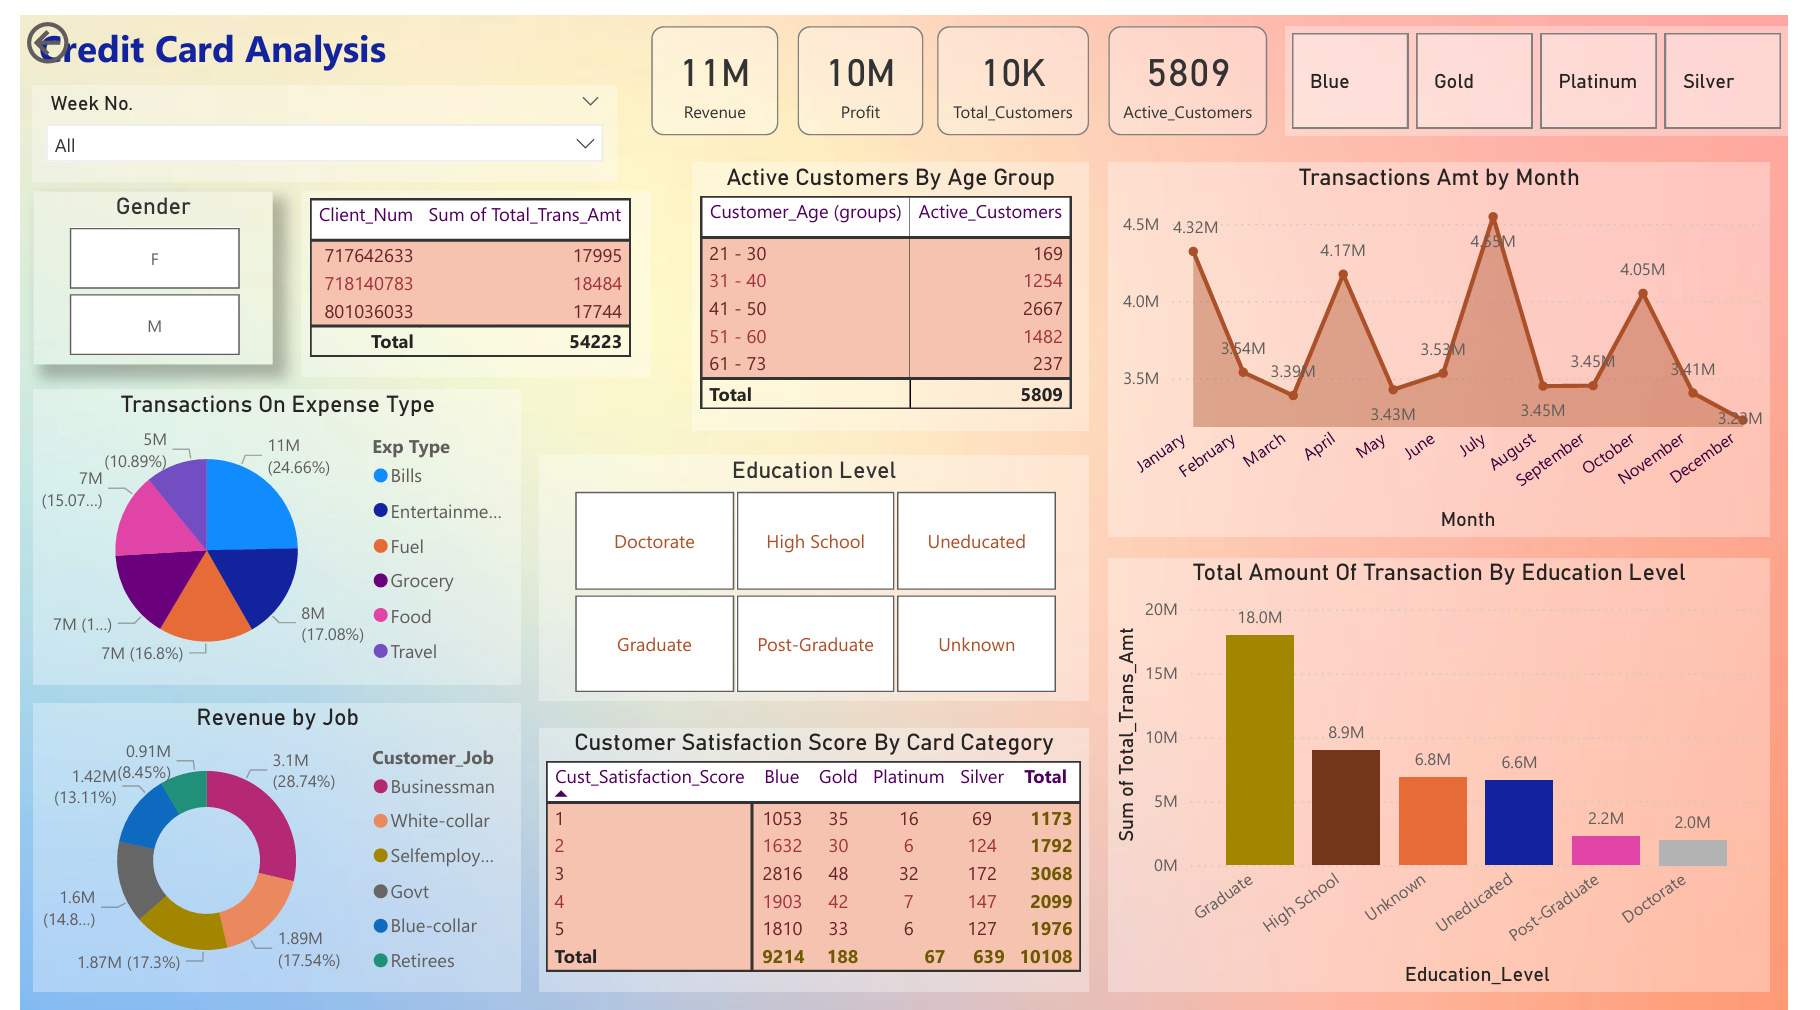

Layout of this report page (visuals, bound fields, positions):
{"tool":"powerbi","page":{"name":" Credit Card Analysis Part 2","canvas":[1280,720],"ordinal":1},"visuals":[{"type":"textbox","box":[9.4,0,366.3,51],"z":0},{"type":"card","fields":{"Values":["credit_card.Revenue"]},"box":[456.7,7.8,92.2,78.9],"z":1000},{"type":"card","fields":{"Values":["credit_card.Profit"]},"box":[563.3,7.8,91.1,78.9],"z":2000},{"type":"card","fields":{"Values":["CountNonNull(credit_card.Client_Num)"]},"box":[664.4,7.8,110,78.9],"z":3000},{"type":"card","fields":{"Values":["credit_card.Active_Customers"]},"box":[787.8,7.8,115.6,78.9],"z":4000},{"type":"slicer","title":"Week No.","fields":{"Values":["credit_card.Week_Num"]},"box":[9.4,51,422.7,69.8],"z":5000},{"type":"donutChart","title":"Revenue by Job","fields":{"Category":["customer.Customer_Job"],"Y":["credit_card.Revenue"]},"box":[10,498,353,209],"z":6000},{"type":"advancedSlicerVisual","fields":{"Values":["credit_card.Card_Category"]},"box":[915.6,7.8,364.4,78.9],"z":7000},{"type":"slicer","title":"Gender","fields":{"Values":["customer.Gender"]},"box":[10,128,173,125],"z":8000},{"type":"columnChart","title":"Total Amount Of Transaction By Education Level","fields":{"Category":["customer.Education_Level"],"Y":["Sum(credit_card.Total_Trans_Amt)"]},"box":[787.7,393.2,479,314],"z":9000},{"type":"pivotTable","title":"Customer Satisfaction Score By Card Category","fields":{"Columns":["credit_card.Card_Category"],"Rows":["customer.Cust_Satisfaction_Score"],"Values":["CountNonNull(customer.Cust_Satisfaction_Score)"]},"box":[375.7,515.7,398.6,191.4],"z":10000},{"type":"tableEx","title":"Active Customers By Age Group","fields":{"Values":["customer.Customer_Age (groups)","credit_card.Active_Customers"]},"box":[487.1,107.1,287.1,194.3],"z":11000},{"type":"actionButton","box":[0,0,100,40],"z":12000},{"type":"lineChart","title":"Transactions Amt by Month","fields":{"Category":["credit_card.Week_Start_Date.Variation.Date Hierarchy.Month"],"Y":["Sum(credit_card.Total_Trans_Amt)"]},"box":[787.7,107.3,479,271.1],"z":13000},{"type":"slicer","title":"Education Level","fields":{"Values":["customer.Education_Level"]},"box":[375.7,318.6,398.6,178.6],"z":14000},{"type":"tableEx","fields":{"Values":["customer.Client_Num","Sum(credit_card.Total_Trans_Amt)"]},"box":[204,128,253,134],"z":15000},{"type":"pieChart","title":"Transactions On Expense Type","fields":{"Category":["credit_card.Exp Type"],"Y":["Sum(credit_card.Total_Trans_Amt)"]},"box":[10,270.8,353.1,214.6],"z":16000}]}

Visuals, with their boxes in screenshot pixels (x1, y1, x2, y2), scaled from the page's 1280x720 canvas onto the 1820x1010 screenshot:
textbox: 13:0:534:72
card - credit_card.Revenue: 649:11:780:122
card - credit_card.Profit: 801:11:930:122
card - CountNonNull(credit_card.Client_Num): 945:11:1101:122
card - credit_card.Active_Customers: 1120:11:1285:122
"Week No." slicer: 13:72:614:169
"Revenue by Job" donutChart: 14:699:516:992
advancedSlicerVisual - credit_card.Card_Category: 1302:11:1819:122
"Gender" slicer: 14:180:260:355
"Total Amount Of Transaction By Education Level" columnChart: 1120:552:1801:992
"Customer Satisfaction Score By Card Category" pivotTable: 534:723:1101:992
"Active Customers By Age Group" tableEx: 693:150:1101:423
actionButton: 0:0:142:56
"Transactions Amt by Month" lineChart: 1120:151:1801:531
"Education Level" slicer: 534:447:1101:697
tableEx - customer.Client_Num x Sum(credit_card.Total_Trans_Amt): 290:180:650:368
"Transactions On Expense Type" pieChart: 14:380:516:681
